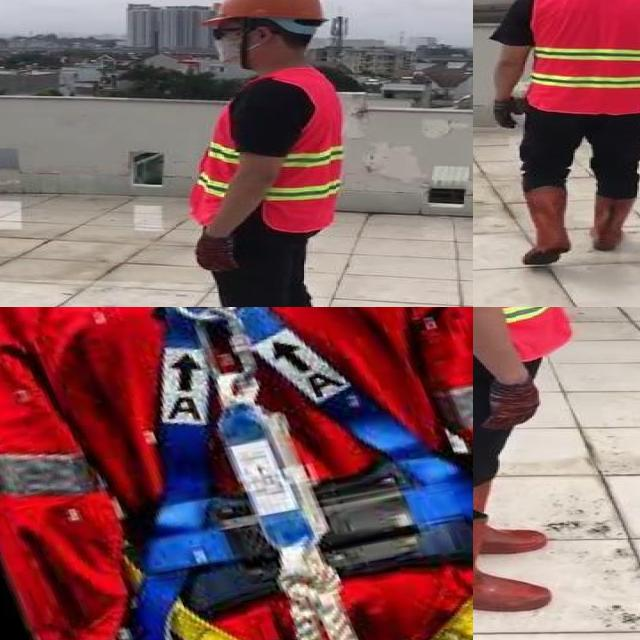Harness: (134, 307, 473, 640)
boots: (473, 507, 551, 612), (473, 481, 551, 555), (518, 186, 571, 268), (591, 194, 633, 251)
face_mask: (204, 20, 268, 65)
hand_glove: (480, 380, 541, 428), (196, 235, 238, 272), (491, 98, 518, 127)
head_helmet: (200, 0, 335, 26)
person: (156, 0, 376, 307), (487, 0, 640, 269), (473, 307, 592, 615)
vest: (182, 69, 340, 233), (528, 0, 640, 113)
